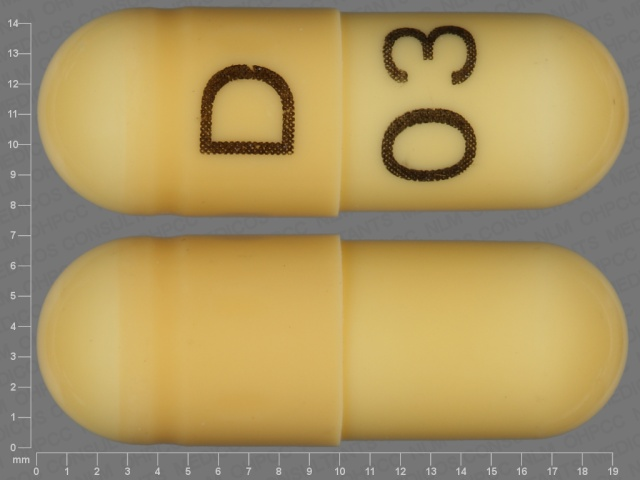0: (378, 105, 479, 186)
3: (380, 24, 479, 89)
D: (192, 59, 299, 160)
capsule: (33, 233, 633, 450), (36, 4, 633, 220)
